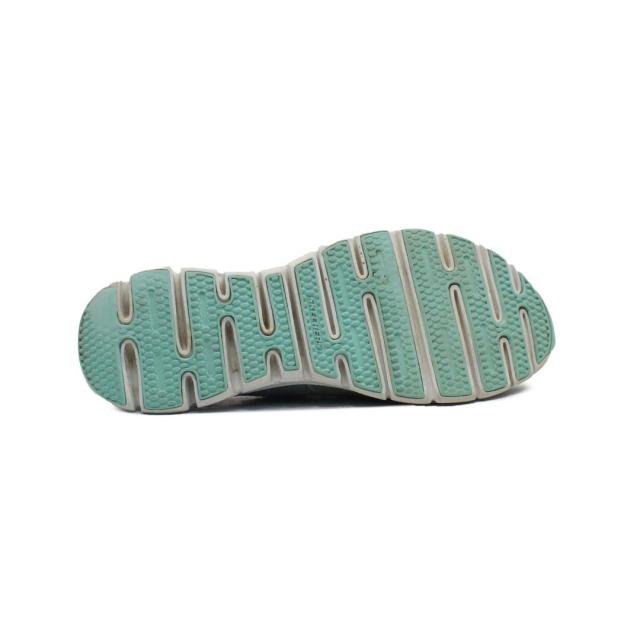outersole: (76, 229, 555, 413)
